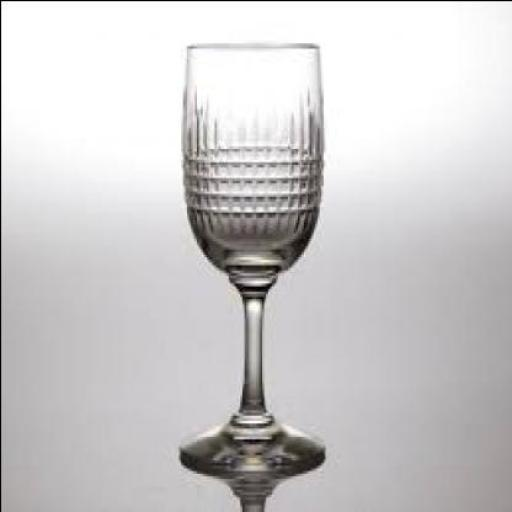glass: (182, 40, 328, 478)
